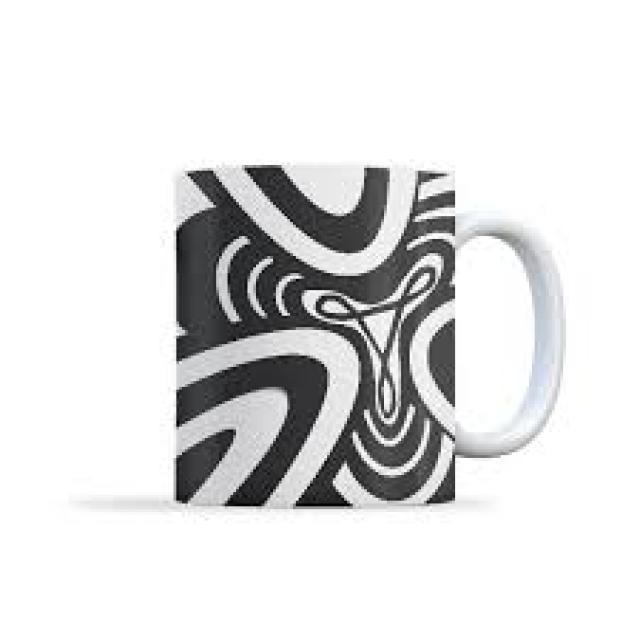taza: (137, 144, 572, 522)
